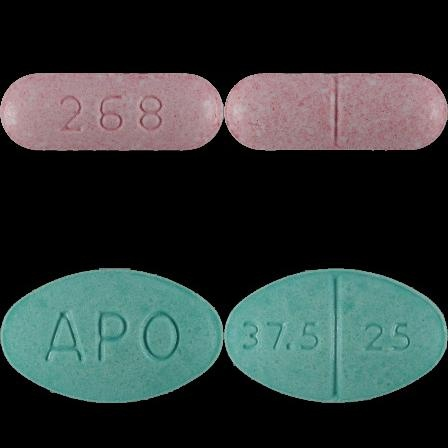68788-9492: (0, 0, 224, 224)
